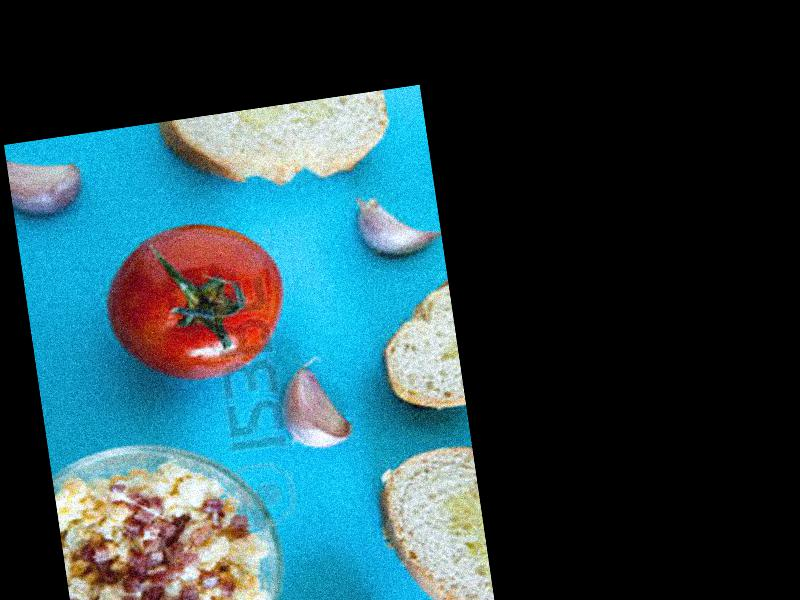Tomato: (98, 212, 294, 385)
